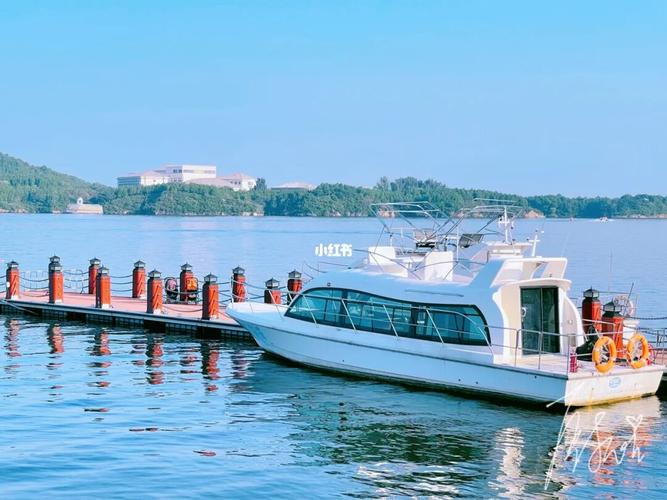buildings: (240, 248, 649, 402)
sea_river: (37, 341, 484, 481), (0, 211, 529, 321), (253, 279, 640, 401)
